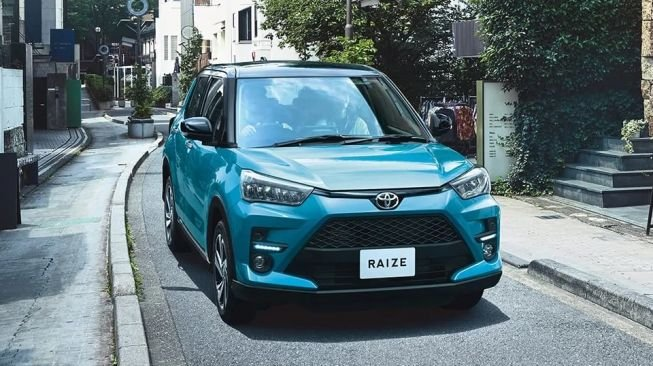mobil: (159, 58, 505, 332)
